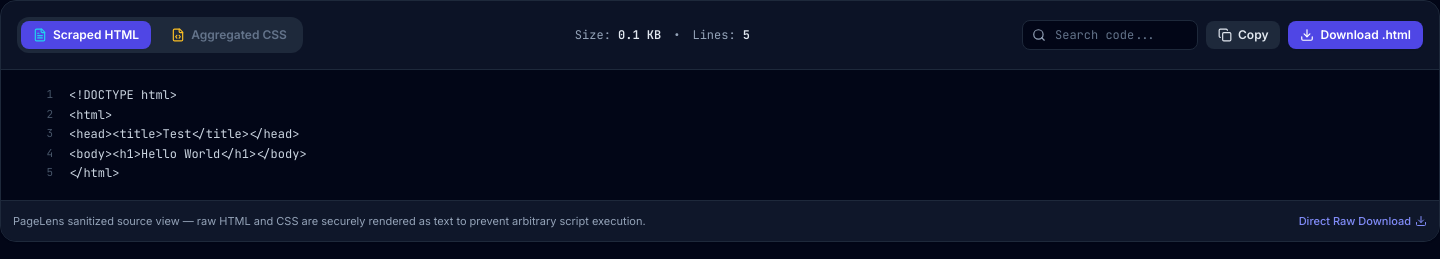
Test case: ScrapedSourceViewer Component › filters lines when search term is entered
Type "Hello" into the field with placeholder "Search code...". click: (1110, 35)
box: x1=1022 y1=20 x2=1198 y2=50
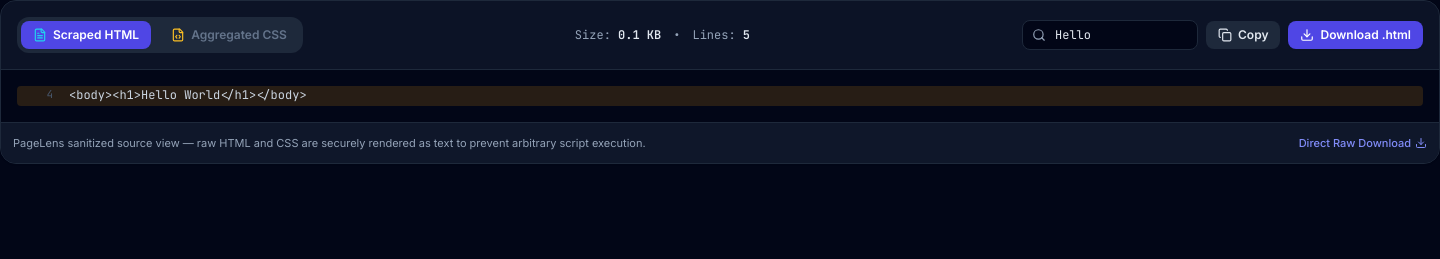
Expected: the text "<body><h1>Hello World</h1></body>" is shown, x1=69 y1=87 x2=307 y2=103
Now the text "<title>Test</title>" is gone
